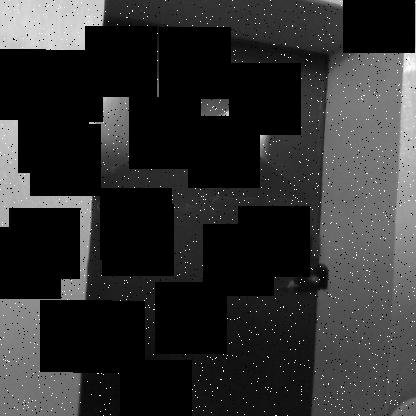Porte: (77, 0, 406, 415)
